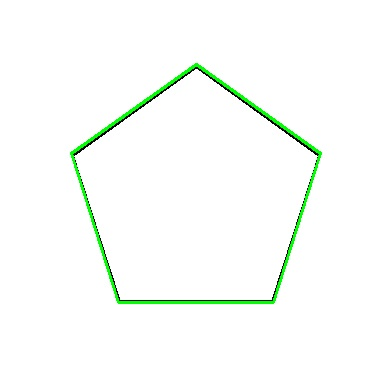line_segment: (71, 64, 322, 303)
